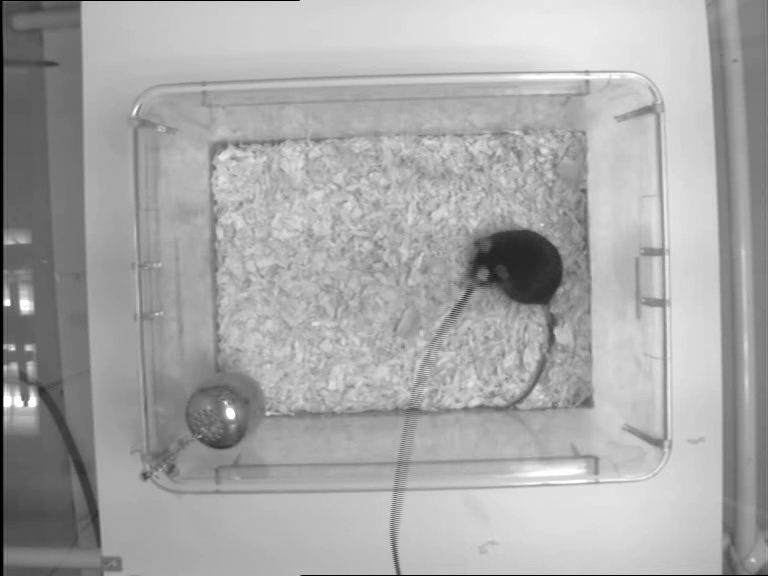mice: (464, 229, 559, 413)
